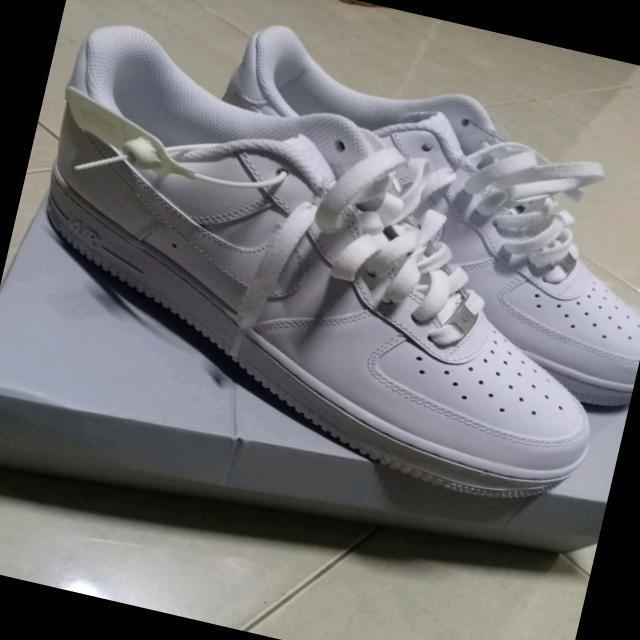nike original air force: (0, 8, 640, 520), (176, 14, 640, 416)
